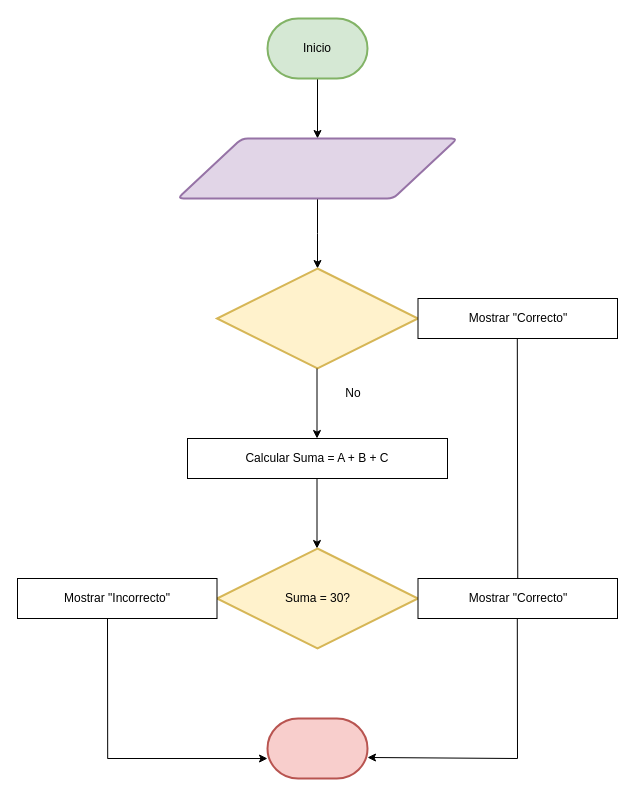
Some shapes in this 635 by 796 pixel diagram are drawn without their labels. Each missing label, with the centre of its shape:
"A =30 o B =30 o C =30?" belongs at [317,318].
"Fin" belongs at [317,748].
"Leer numeros A, B y C" belongs at [317,168].
